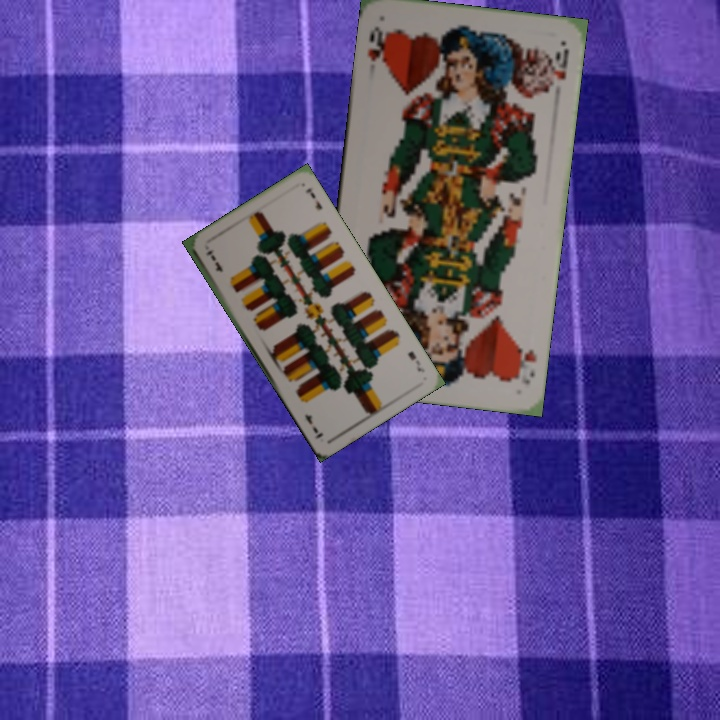E7: (201, 246, 225, 274), (404, 347, 427, 375)
HO: (511, 340, 539, 388), (364, 22, 391, 71)
